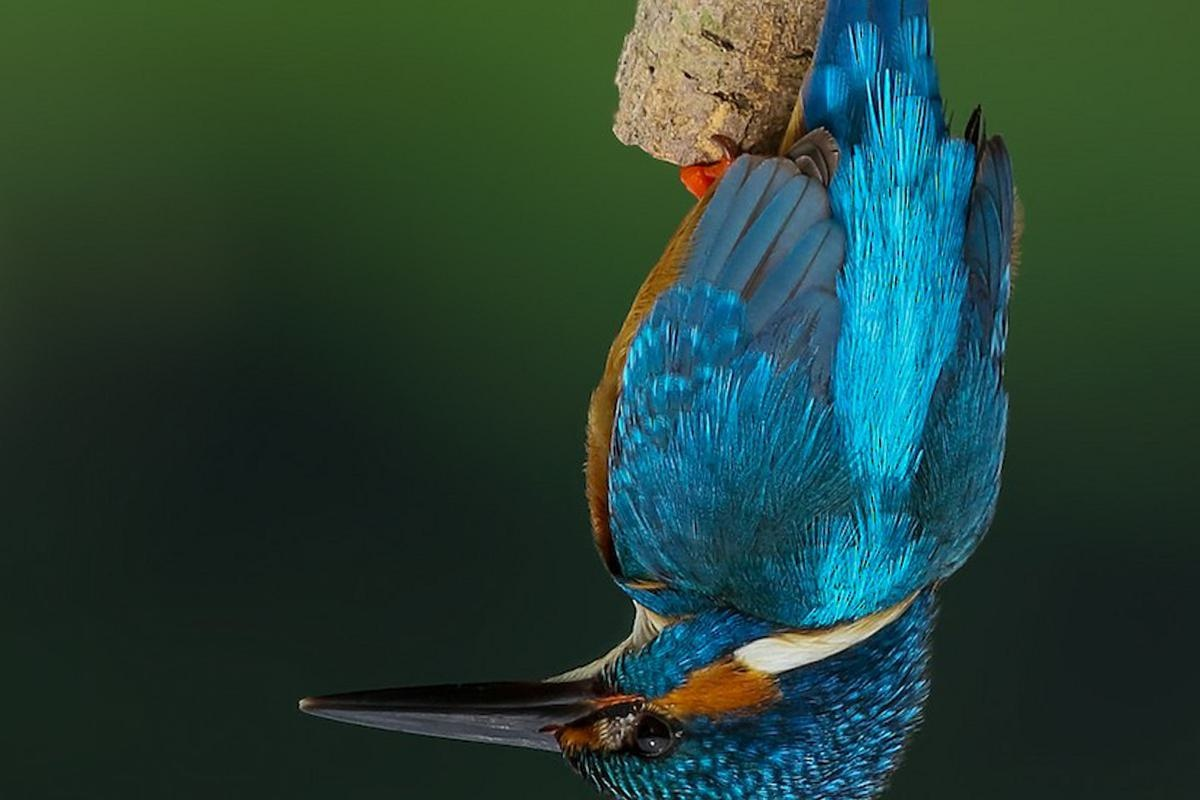kingfisher: (276, 1, 1013, 793)
